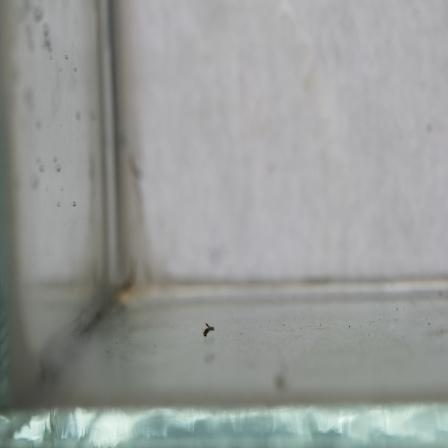Jentik-Nyamuk: (198, 318, 217, 340)
